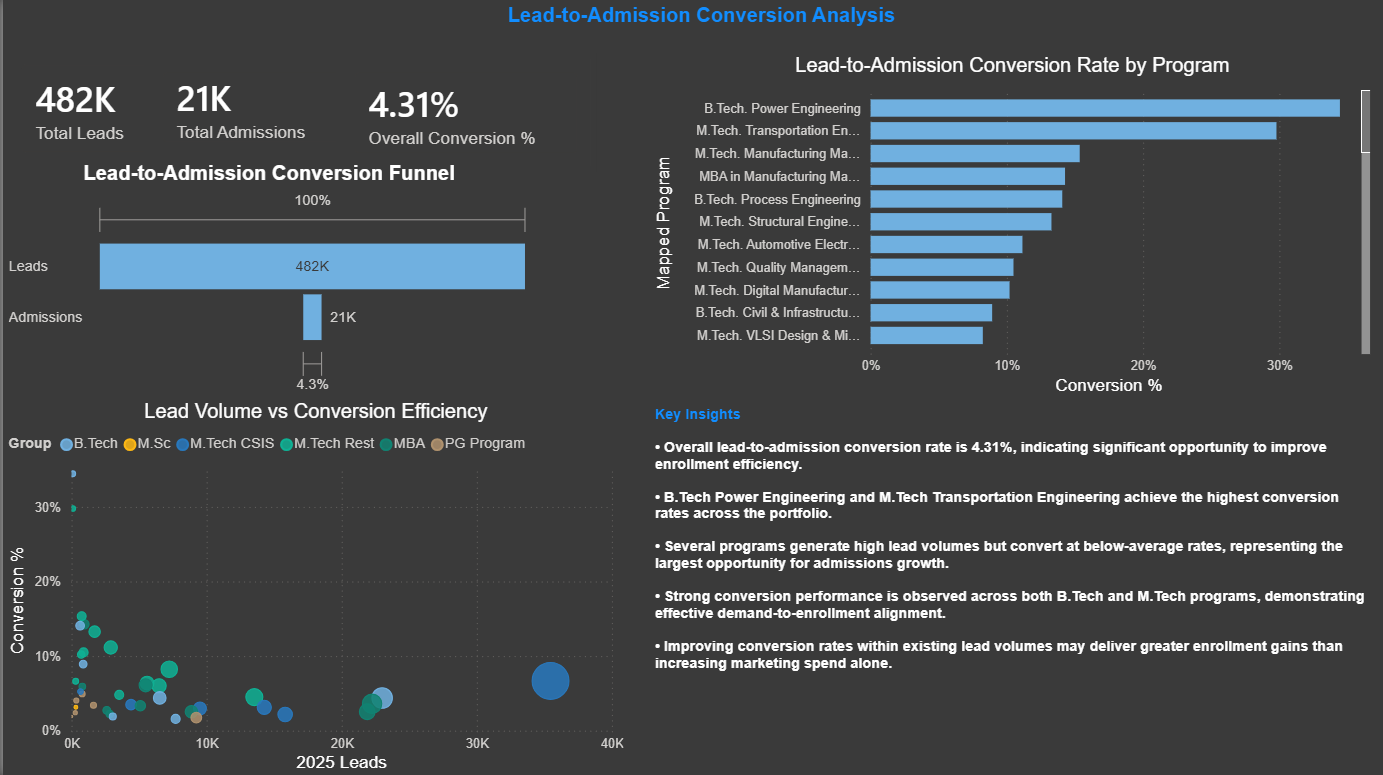

What the dashboard file says about the page in this screenshot:
{"tool":"powerbi","page":{"name":"Lead Conversion Funnel Analysis","canvas":[1280,720],"ordinal":4},"visuals":[{"type":"textbox","box":[10.6,0,1268.9,280.1],"z":0},{"type":"cardVisual","fields":{"Data":["Fact_ProgramAnalysis.Total Leads"]},"box":[0,43.9,159,115.1],"z":1000},{"type":"cardVisual","fields":{"Data":["Fact_ProgramAnalysis.Total Admissions"]},"box":[130.2,51.5,204.4,99.9],"z":2000},{"type":"cardVisual","fields":{"Data":["Fact_ProgramAnalysis.Overall Conversion %"]},"box":[307.4,51.5,240.8,109],"z":3000},{"type":"funnel","title":"Lead-to-Admission Conversion Funnel","fields":{"Category":["Funnel Stages.Stage"],"Y":["Fact_ProgramAnalysis.Funnel Value"]},"box":[0,151.4,492.1,219.6],"z":4000},{"type":"clusteredBarChart","title":"Lead-to-Admission Conversion Rate by Program","fields":{"Category":["Fact_ProgramAnalysis.Mapped Program"],"Y":["Fact_ProgramAnalysis.Conversion %"]},"box":[598.1,51.5,670.8,319.5],"z":5000},{"type":"scatterChart","title":"Lead Volume vs Conversion Efficiency","fields":{"X":["Fact_ProgramAnalysis.2025 Leads"],"Y":["Fact_ProgramAnalysis.Conversion %"],"Category":["Fact_ProgramAnalysis.Mapped Program"],"Size":["Fact_ProgramAnalysis.2025 Admissions"],"Series":["Fact_ProgramAnalysis.Group"]},"box":[0,371,578.4,348.3],"z":6000},{"type":"textbox","box":[598,371,671,348],"z":7000}]}

Visuals, with their boxes in screenshot pixels (x1, y1, x2, y2), scaled from the page's 1280x720 canvas onto the 1383x775 screenshot:
textbox: [11, 0, 1382, 301]
cardVisual - Fact_ProgramAnalysis.Total Leads: [0, 47, 172, 171]
cardVisual - Fact_ProgramAnalysis.Total Admissions: [141, 55, 362, 163]
cardVisual - Fact_ProgramAnalysis.Overall Conversion %: [332, 55, 592, 173]
"Lead-to-Admission Conversion Funnel" funnel: [0, 163, 532, 399]
"Lead-to-Admission Conversion Rate by Program" clusteredBarChart: [646, 55, 1371, 399]
"Lead Volume vs Conversion Efficiency" scatterChart: [0, 399, 625, 774]
textbox: [646, 399, 1371, 774]
